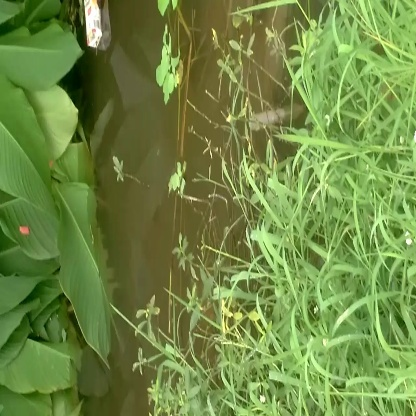milk-box: (78, 1, 114, 53)
